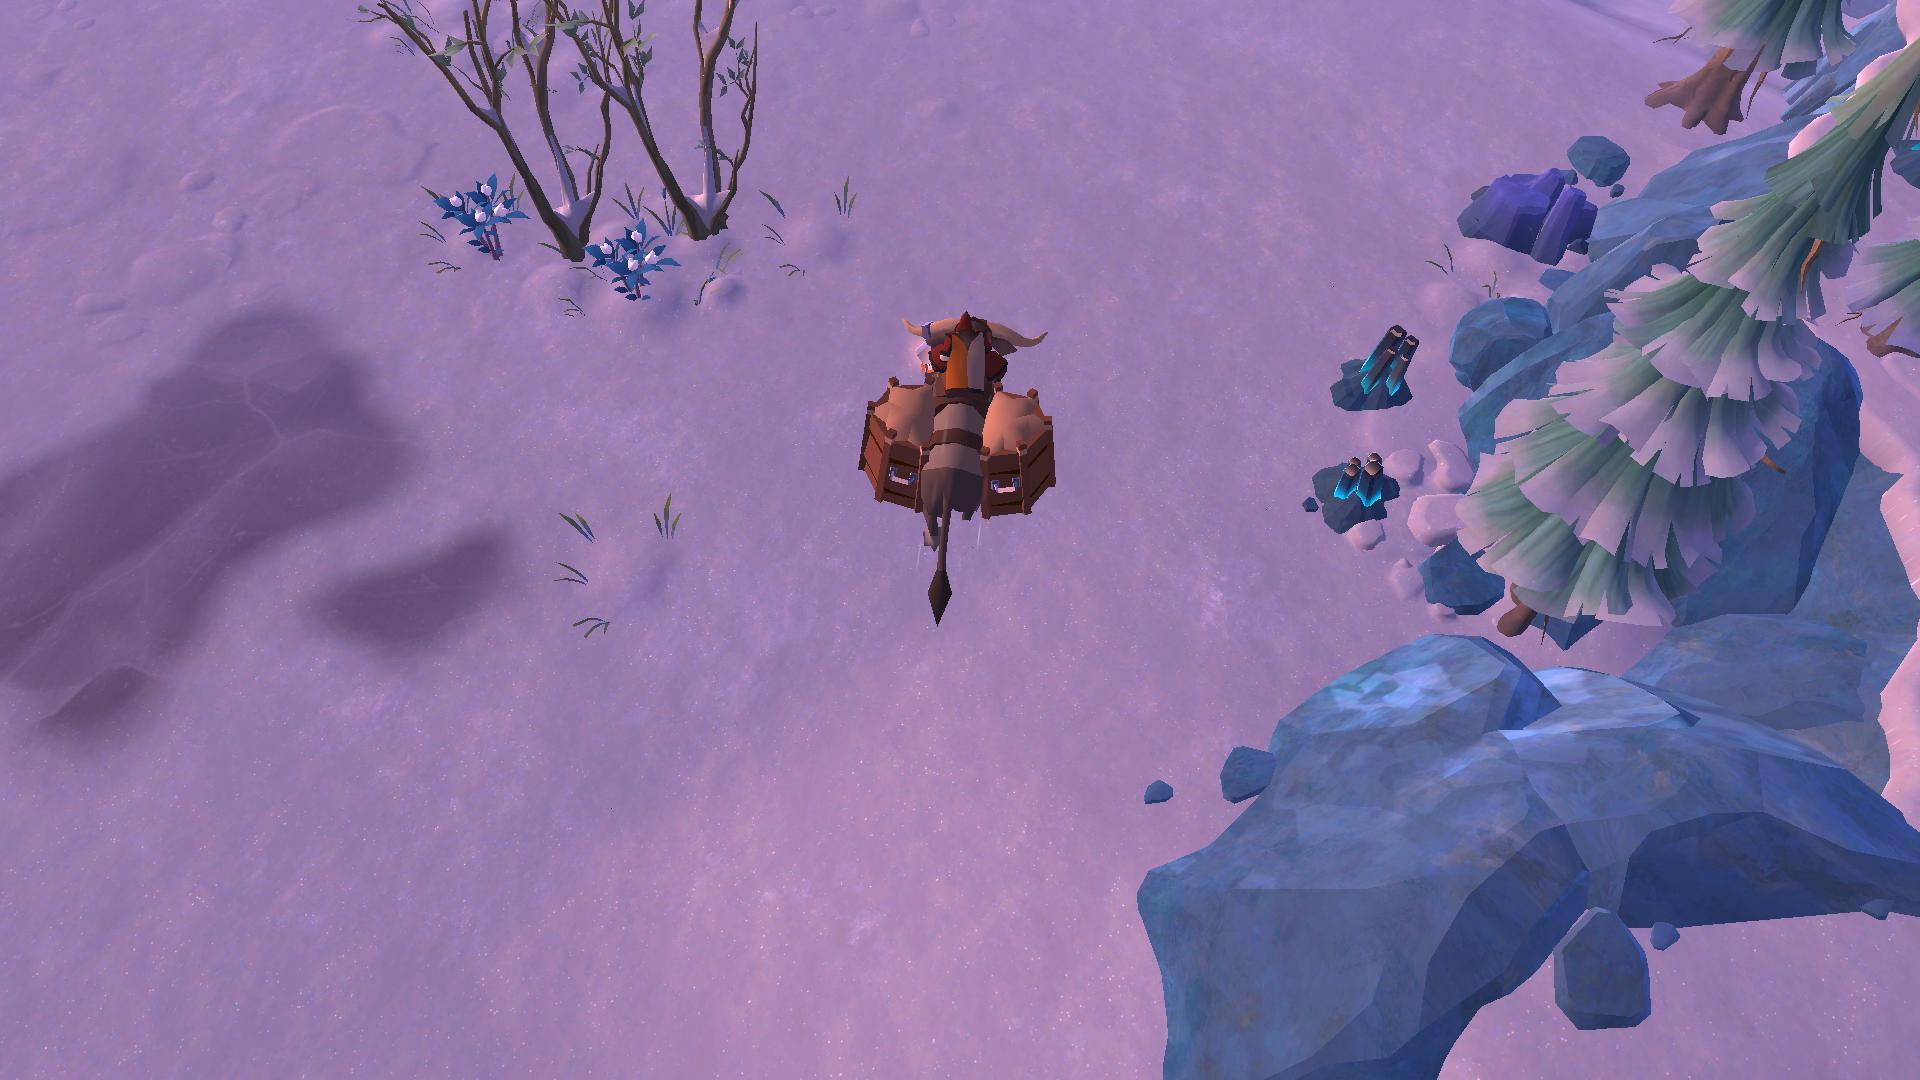fiber_t4: (427, 173, 524, 257), (580, 219, 671, 297)
ore_t4: (1358, 314, 1415, 398), (1335, 454, 1387, 508)
rock_t4: (1447, 161, 1597, 272)
